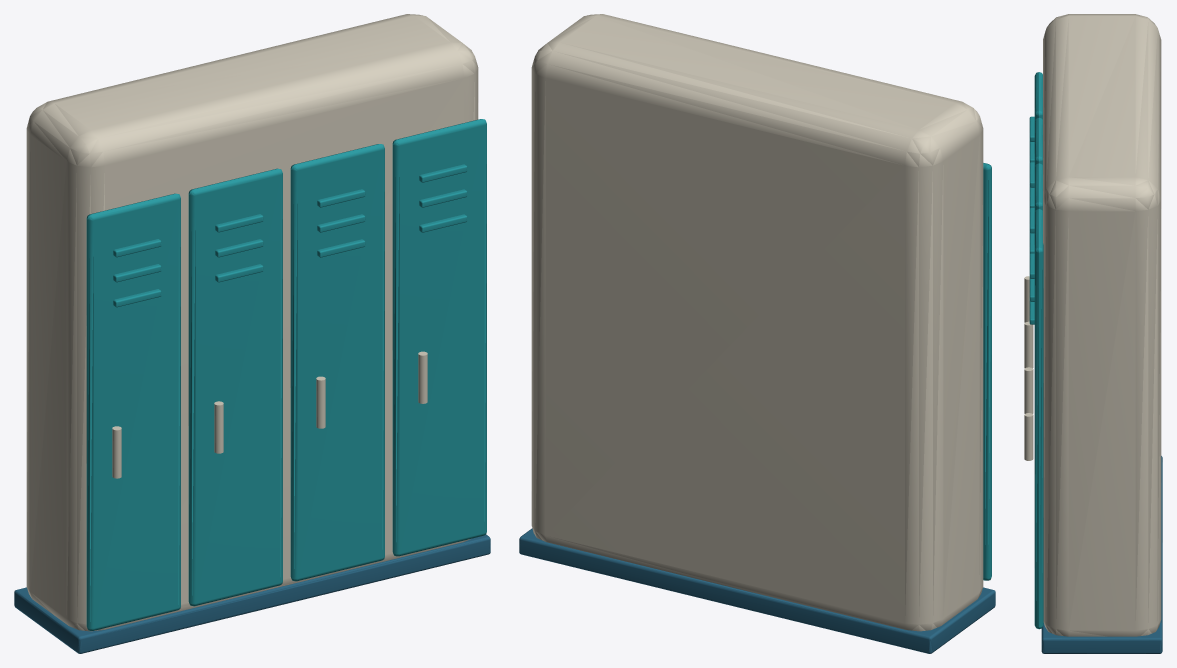
The model's file is 11_advanced_lockers.glb.
3 renders of one model, left to right at view 1: azimuth 30°, elevation 25°; view 2: azimuth 150°, elevation 25°; view 3: azimuth 270°, elevation 25°, orthographic. The views are drawn at different scales.
Visible parts, largest first — view 1: 11_advanced_lockers__Static; view 2: 11_advanced_lockers__Static; view 3: 11_advanced_lockers__Static.
Boxes of the visible parts, x1,y1,x2,y2 form: 11_advanced_lockers__Static: (14, 14, 490, 653); 11_advanced_lockers__Static: (519, 14, 995, 653); 11_advanced_lockers__Static: (1024, 14, 1162, 653).
Bounding box in the file's own units: 1.7 × 2 × 0.537.
